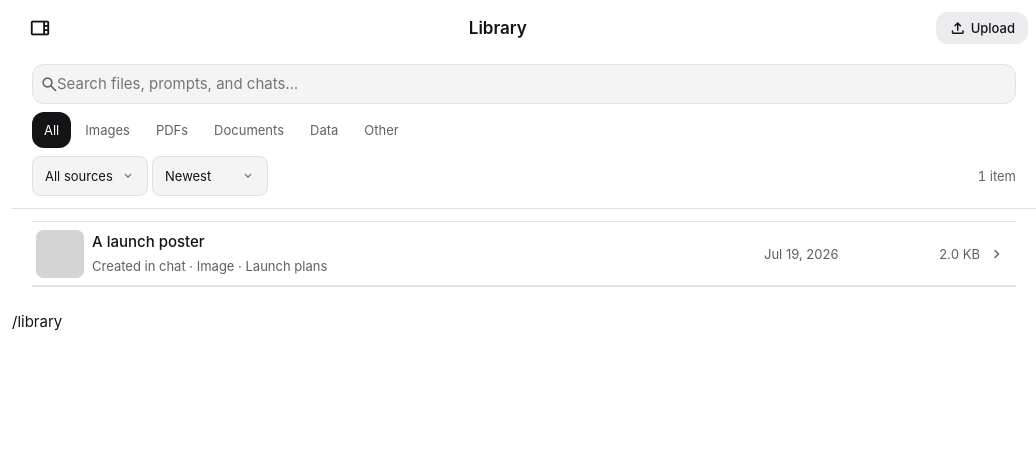
Test: LibraryView › writes image mode to the URL and renders a real image tile
Expected: the text "A launch poster" is shown, [92,232,205,250]
Click the tab "Images".
click(108, 130)  # box [73,112,142,148]
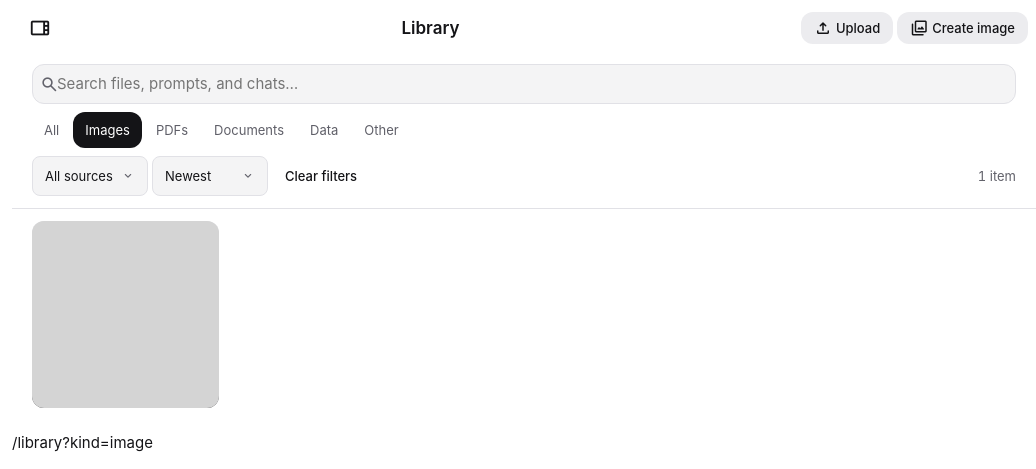
Result: the text with test id "location" reads "/library?kind=image" at [12,433,153,452]
Result: the button "Create image" is shown at [897,12,1028,44]
